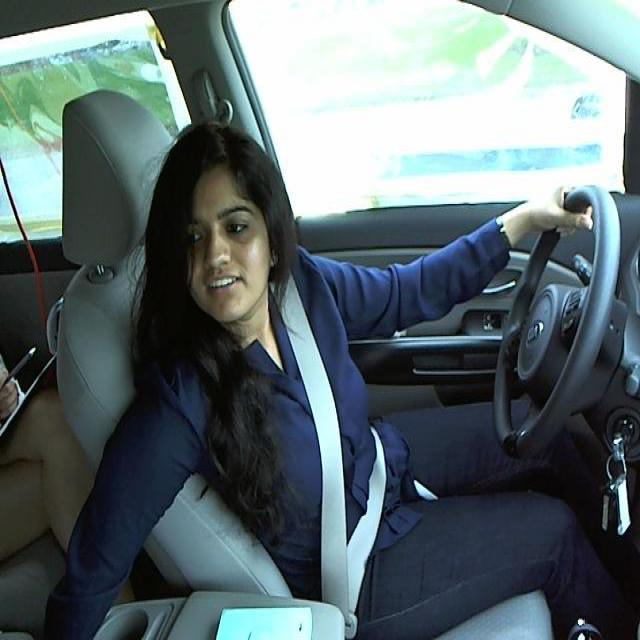seatbelt: (271, 301, 420, 600)
